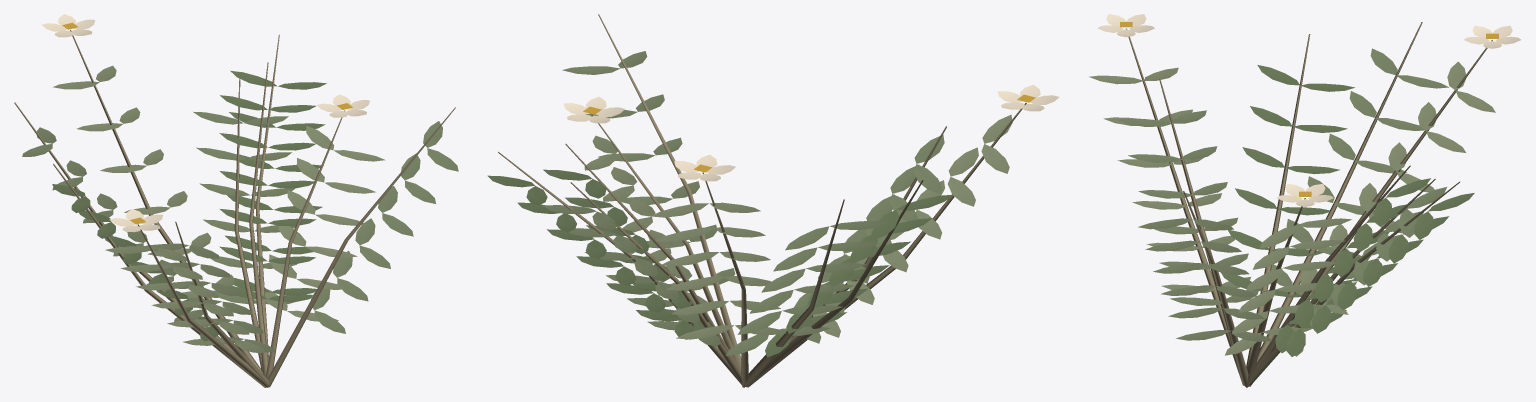
File: CisteSauge_1_High.fbx
The picture shows the model from 3 angles, left to right: view 1: azimuth 30°, elevation 25°; view 2: azimuth 150°, elevation 25°; view 3: azimuth 270°, elevation 25°; orthographic projection. The views are drawn at different scales.
Parts seen in each view (by area): view 1: CisteSauge_1_High; view 2: CisteSauge_1_High; view 3: CisteSauge_1_High.
Boxes of the visible parts, bbox=[...] form: CisteSauge_1_High: bbox=[14, 14, 458, 387]; CisteSauge_1_High: bbox=[487, 14, 1058, 387]; CisteSauge_1_High: bbox=[1089, 14, 1520, 387].
Size of the model in its own units: 83.97 by 63.55 by 80.54.
